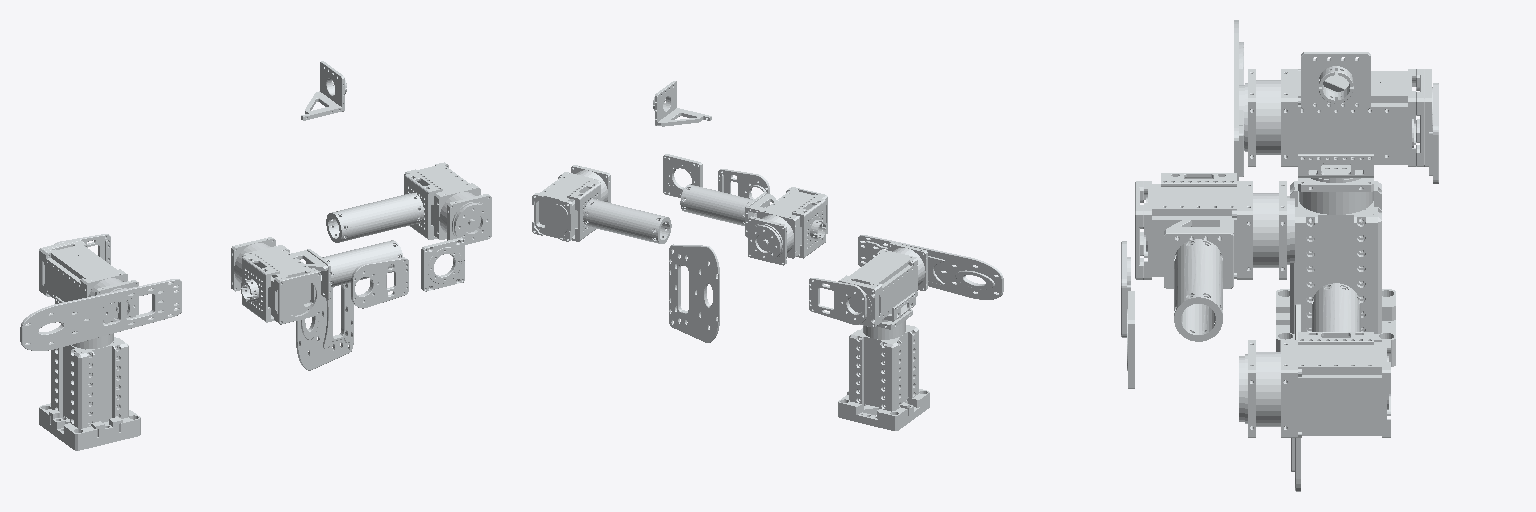
URDF robot description (single_arm_v19):
<?xml version="1.0" encoding="utf-8"?>
<!-- This URDF was automatically created by SolidWorks to URDF Exporter! Originally created by [author] ([email redacted]) 
     Commit Version: 1.6.0-4-g7f85cfe  Build Version: 1.6.7995.38578
     For more information, please see http://wiki.ros.org/sw_urdf_exporter -->
<robot
  name="single_arm_v19">
  <link name="dummy"/>
  <joint name="dummy_joint" type="fixed">
    <parent link="dummy"/>
    <child link="base_link"/>
    </joint>
  <link name='base_link'>
  <!-- <link
    name="base_link"> -->
    <inertial>
      <origin
        xyz="-0.00010098 -0.00035109 0.054127"
        rpy="0 0 0" />
      <mass
        value="2.94316" />
      <inertia
        ixx="0.00082016"
        ixy="3.555E-10"
        ixz="-4.1821E-06"
        iyy="0.00081979"
        iyz="-1.4527E-07"
        izz="0.00035328" />
    </inertial>
    <visual>
      <origin
        xyz="0 0 0"
        rpy="0 0 0" />
      <geometry>
        <mesh
          filename="package://single_arm_v19/meshes/base_link.STL" />
      </geometry>
      <material
        name="">
        <color
          rgba="0.89804 0.91765 0.92941 1" />
      </material>
    </visual>
    <collision>
      <origin
        xyz="0 0 0"
        rpy="0 0 0" />
      <geometry>
        <mesh
          filename="package://single_arm_v19/meshes/base_link.STL" />
      </geometry>
    </collision>
  </link>
  <link
    name="link1">
    <inertial>
      <origin
        xyz="3.305E-06 0.0036146 0.029085"
        rpy="0 0 0" />
      <mass
        value="0.93428" />
      <inertia
        ixx="0.00048112"
        ixy="-7.0827E-08"
        ixz="-3.5566E-10"
        iyy="0.00018986"
        iyz="4.1821E-06"
        izz="0.0004948" />
    </inertial>
    <visual>
      <origin
        xyz="0 0 0"
        rpy="0 0 0" />
      <geometry>
        <mesh
          filename="package://single_arm_v19/meshes/link1.STL" />
      </geometry>
      <material
        name="">
        <color
          rgba="0.89804 0.91765 0.92941 1" />
      </material>
    </visual>
    <collision>
      <origin
        xyz="0 0 0"
        rpy="0 0 0" />
      <geometry>
        <mesh
          filename="package://single_arm_v19/meshes/link1.STL" />
      </geometry>
    </collision>
  </link>
  <joint
    name="joint1"
    type="revolute">
    <origin
      xyz="0 0 0.1445"
      rpy="0 0 0" />
    <parent
      link="base_link" />
    <child
      link="link1" />
    <axis
      xyz="0 0 1" />
    <limit
      lower="-3.14"
      upper="3.14"
      effort="0"
      velocity="0" />
  </joint>
  <link
    name="link2">
    <inertial>
      <origin
        xyz="0.18004 2.4369E-07 0.0061614"
        rpy="0 0 0" />
      <mass
        value="1.07602" />
      <inertia
        ixx="0.00051784"
        ixy="-2.1135E-12"
        ixz="3.6733E-07"
        iyy="0.00076385"
        iyz="-4.2672E-10"
        izz="0.00050582" />
    </inertial>
    <visual>
      <origin
        xyz="0 0 0"
        rpy="0 0 0" />
      <geometry>
        <mesh
          filename="package://dynamics/src/dynamics/meshes/merged_single_arm_v19_axis_2.STL" />
      </geometry>
      <material
        name="">
        <color
          rgba="0.89804 0.91765 0.92941 1" />
      </material>
    </visual>
    <collision>
      <origin
        xyz="0 0 0"
        rpy="0 0 0" />
      <geometry>
        <mesh
          filename="package://single_arm_v19/meshes/link2.STL" />
      </geometry>
    </collision>
  </link>
  <joint
    name="joint2"
    type="revolute">
    <origin
      xyz="0 -0.0685 0.0315"
      rpy="1.5708 0 0" />
    <parent
      link="link1" />
    <child
      link="link2" />
    <axis
      xyz="0 0 1" />
    <limit
      lower="-3.14"
      upper="3.14"
      effort="0"
      velocity="0" />
  </joint>
  <link
    name="link3">
    <inertial>
      <origin
        xyz="2.2281E-07 0.15321 0.0030804"
        rpy="0 0 0" />
      <mass
        value="1.00039" />
      <inertia
        ixx="0.00058978"
        ixy="-1.0211E-11"
        ixz="9.0438E-10"
        iyy="0.000451"
        iyz="1.2577E-06"
        izz="0.00035885" />
    </inertial>
    <visual>
      <origin
        xyz="0 0 0"
        rpy="0 0 0" />
      <geometry>
        <mesh
          filename="package://dynamics/src/dynamics/meshes/merged_single_arm_v19_axis_3.STL" />
      </geometry>
      <material
        name="">
        <color
          rgba="0.89804 0.91765 0.92941 1" />
      </material>
    </visual>
    <collision>
      <origin
        xyz="0 0 0"
        rpy="0 0 0" />
      <geometry>
        <mesh
          filename="package://single_arm_v19/meshes/link3.STL" />
      </geometry>
    </collision>
  </link>
  <joint
    name="joint3"
    type="revolute">
    <origin
      xyz="0.2675 0 -0.039"
      rpy="-3.1416 0 1.5708" />
    <parent
      link="link2" />
    <child
      link="link3" />
    <axis
      xyz="0 0 1" />
    <limit
      lower="-3.14"
      upper="3.14"
      effort="0"
      velocity="0" />
  </joint>
</robot>

--- Render facts (derived) ---
Views: 3 orthographic renders of the robot side by side, from view 1: azimuth 30°, elevation 25°; view 2: azimuth 150°, elevation 25°; view 3: azimuth 270°, elevation 25°.
Robot: single_arm_v19 — 5 links, 4 joints (3 revolute, 1 fixed); root link dummy; default pose: every joint at zero.
Links seen in each view (by area): view 1: link2, link3, base_link, link1; view 2: link2, link3, base_link, link1; view 3: link3, link2, link1, base_link.
Link boxes in pixels (box(x1,y1,x2,y2)): link2: box(20, 234, 464, 350); link3: box(296, 61, 491, 370); base_link: box(39, 331, 140, 450); link1: box(39, 239, 138, 323); link2: box(663, 154, 1003, 324); link3: box(532, 81, 769, 342); base_link: box(838, 309, 929, 430); link1: box(838, 242, 927, 327); link3: box(1121, 52, 1390, 491); link2: box(1127, 20, 1438, 388); link1: box(1239, 69, 1432, 177); base_link: box(1276, 178, 1395, 366).
Bounding box of the posed robot: 0.6147 × 0.226 × 0.3737 m (x, y, z).
Meshes: 4 distinct files referenced, 4 mesh visuals loaded (4 binary STL).